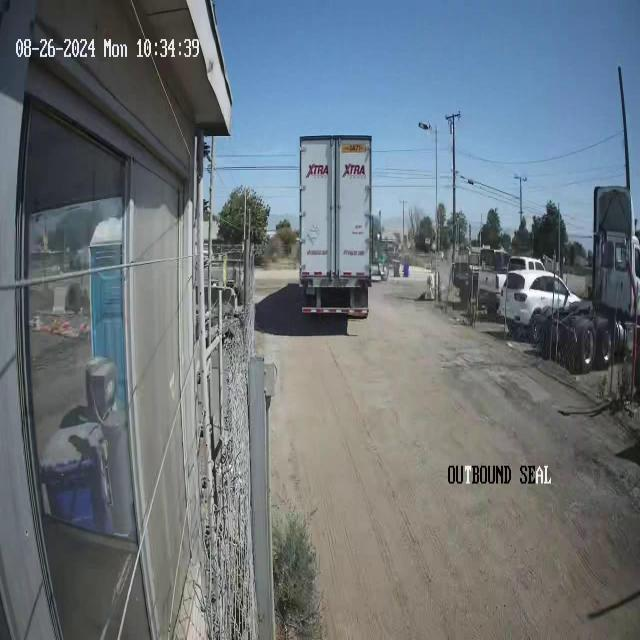TRUCK_OUT: (298, 133, 373, 320)
